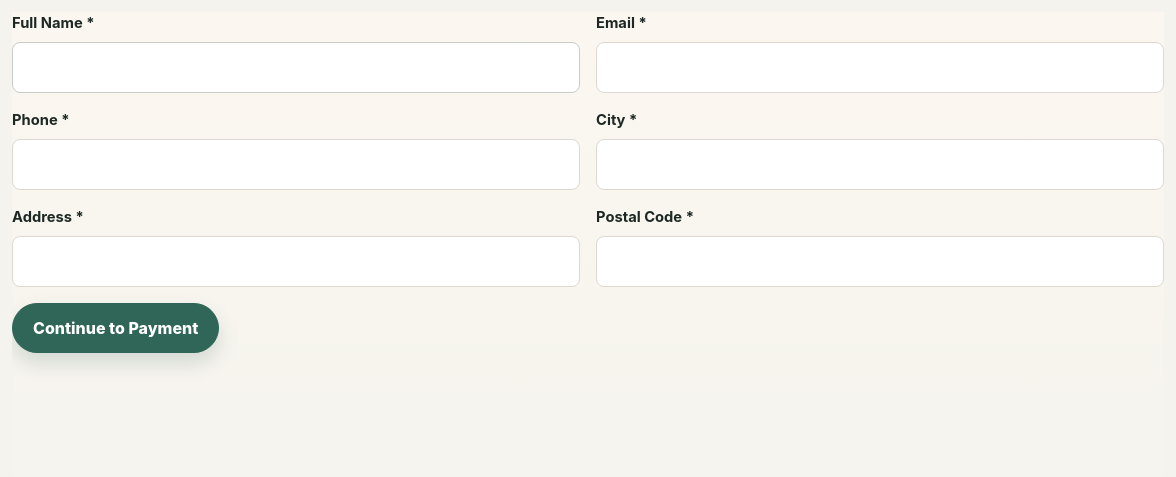
it: DeliveryForm › shows validation errors when required fields are empty
Click the button "Continue to Payment": (116, 328) [12,303,219,353]
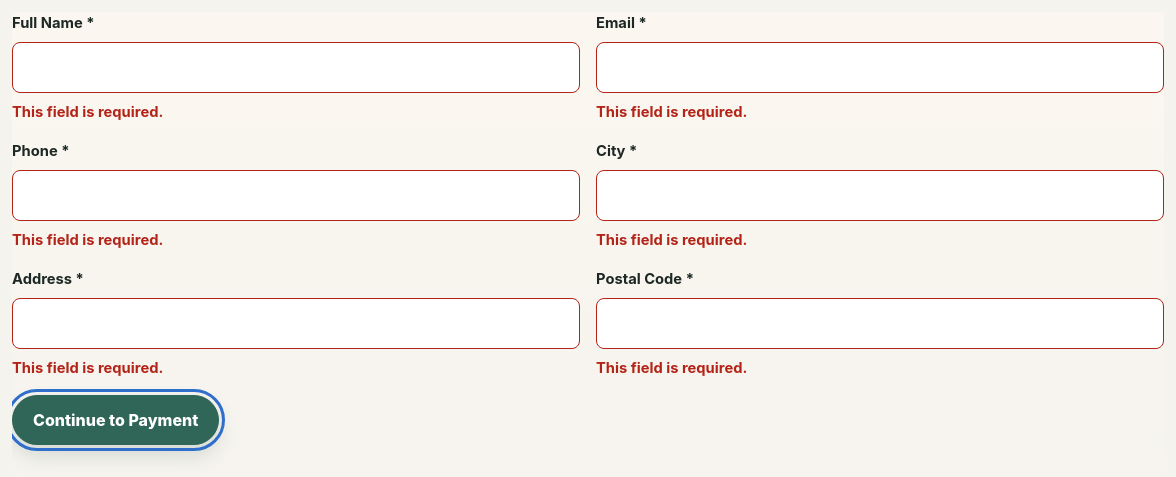
Expected: the text "This field is required." is shown 6 times, [12,103,163,121]; [596,103,747,121]; [12,231,163,249]; [596,231,747,249]; [12,359,163,377]; [596,359,747,377]
